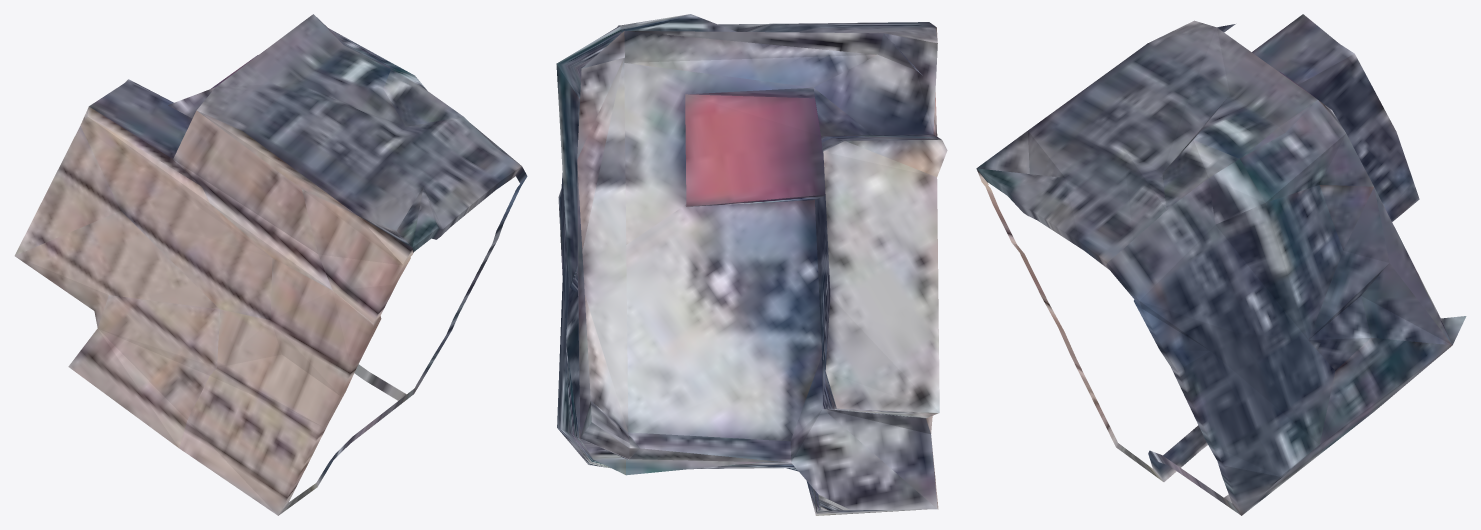
3 views of the same model, side by side, from view 1: azimuth 30°, elevation 25°; view 2: azimuth 150°, elevation 25°; view 3: azimuth 270°, elevation 25° (orthographic). The views are drawn at different scales.
Bounding box in the file's own units: 34.87 × 33.79 × 35.9.
Materials: 1 (1 with a texture image).
